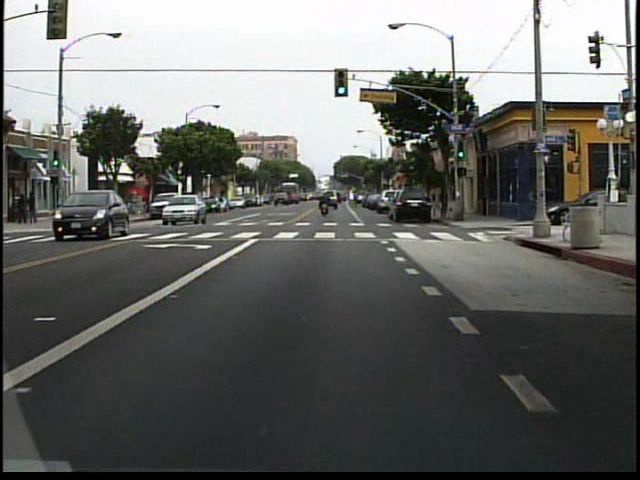person: (18, 193, 31, 226), (30, 190, 41, 225), (317, 188, 330, 217)
